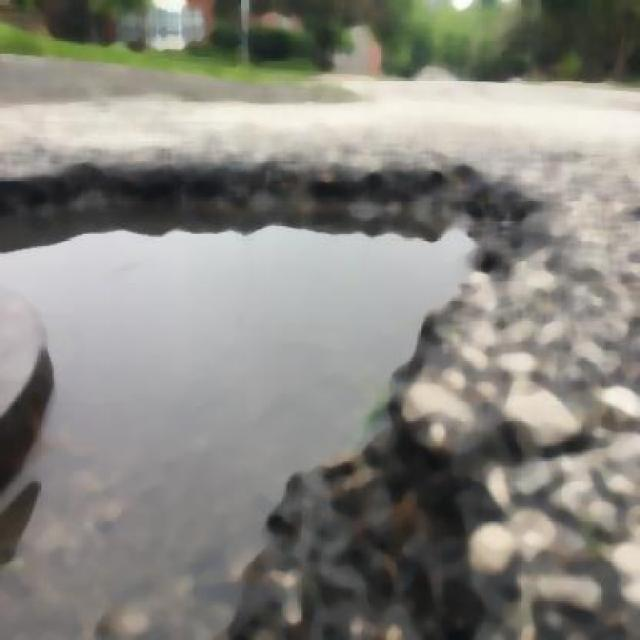Pothole: (0, 166, 417, 640)
